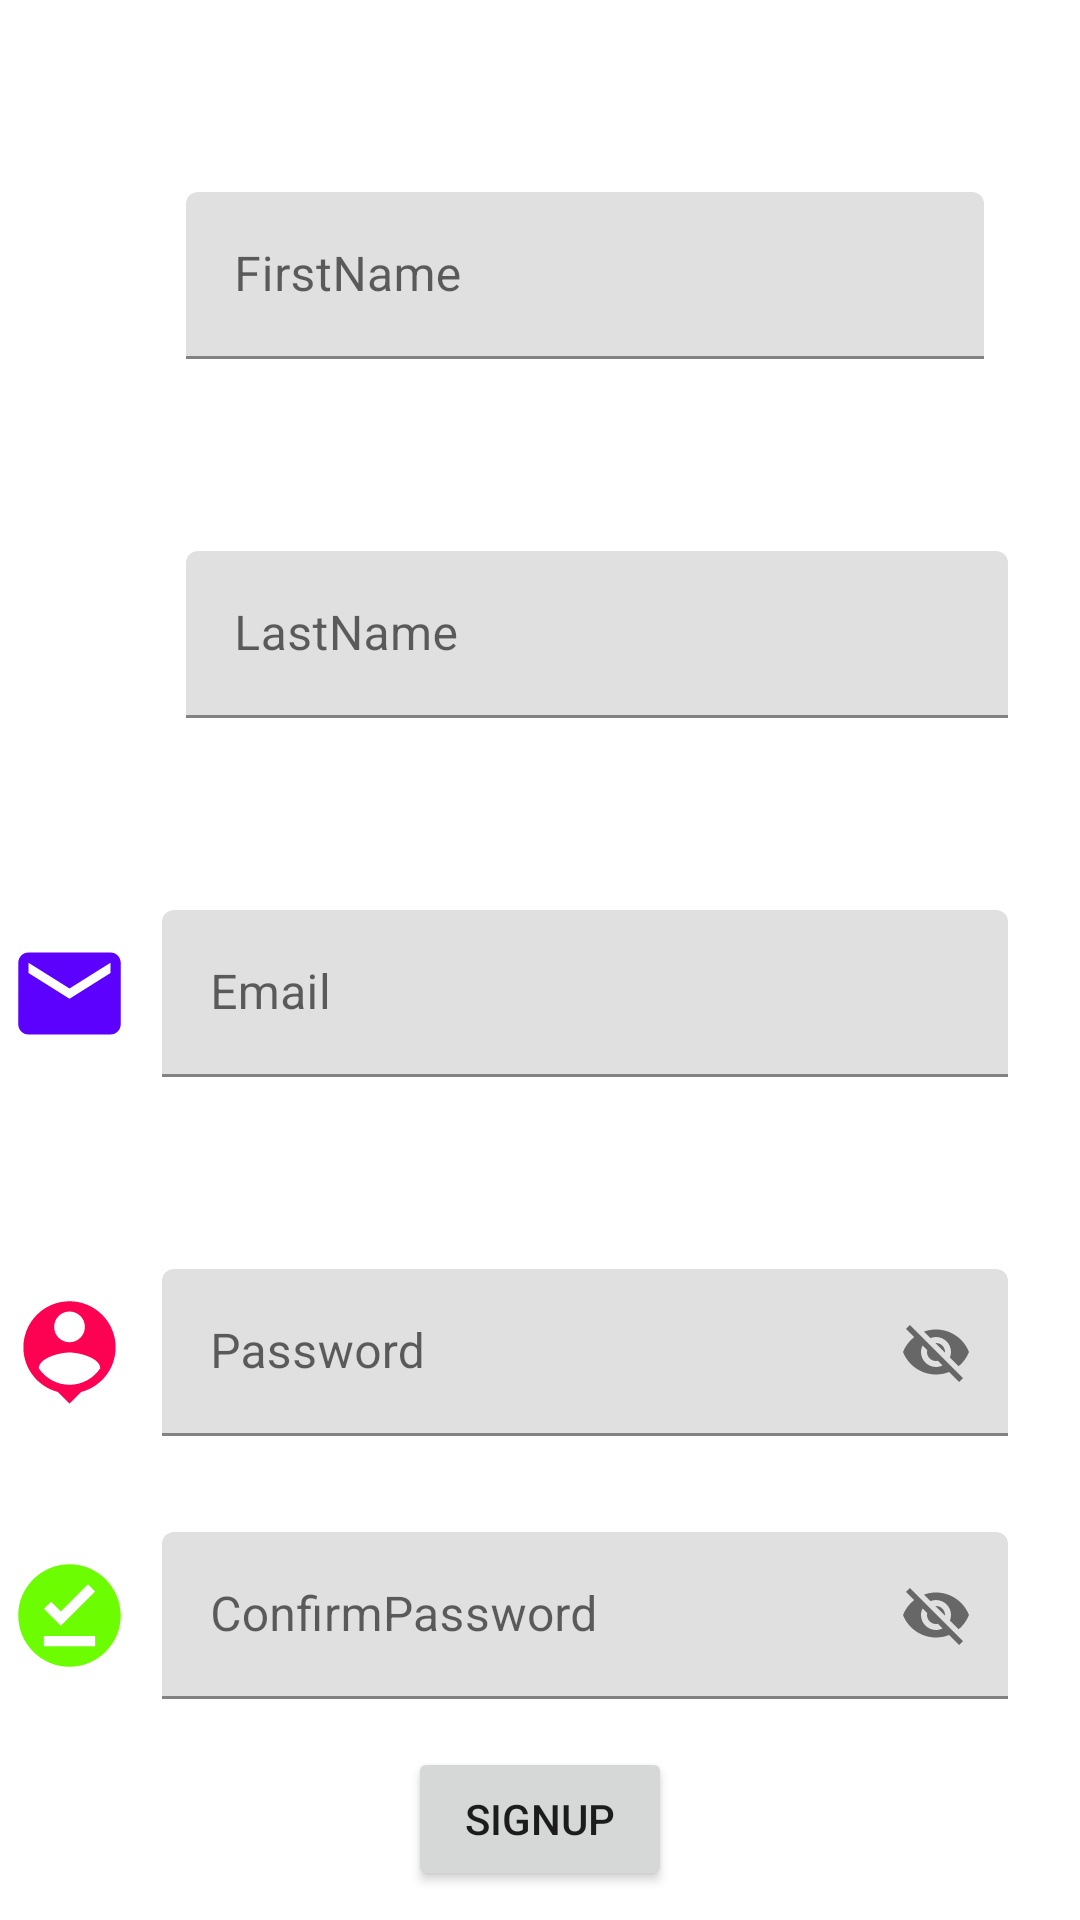

Where icons sit on this 1080px x 1920px app screen, as (x1, y1, x2, y2):
offline pin: (18, 1564, 121, 1667)
person pin: (23, 1301, 116, 1404)
